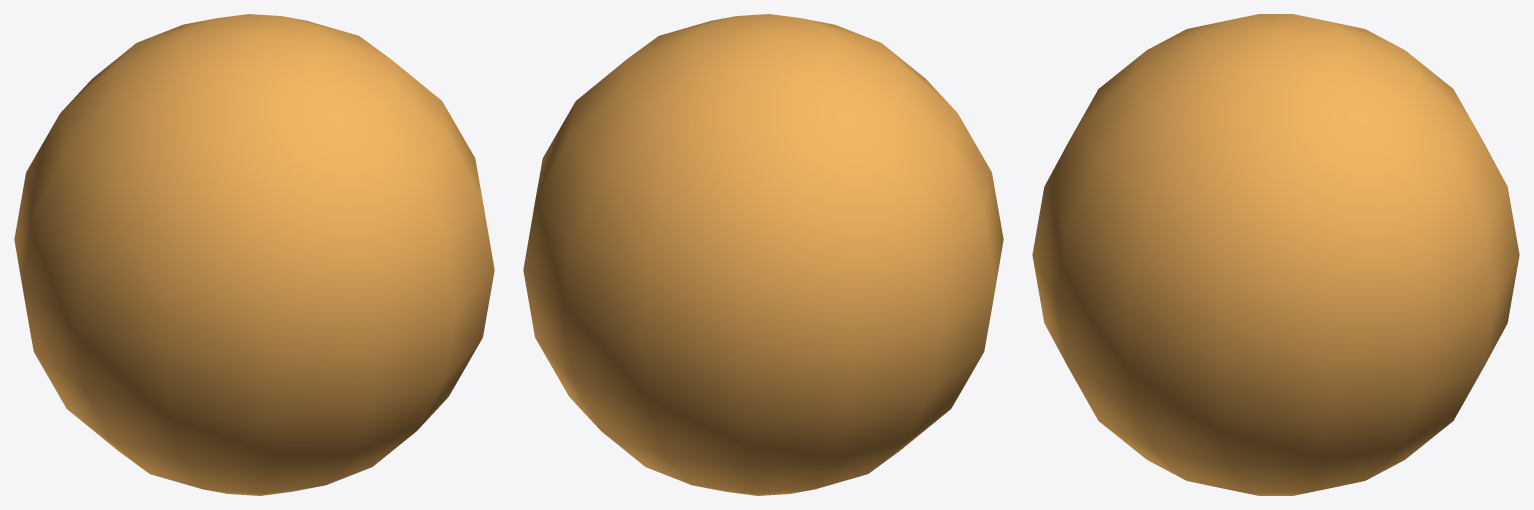
The model's file is ImpactCannon.fbx.
The picture shows the model from 3 angles, left to right: view 1: azimuth 30°, elevation 25°; view 2: azimuth 150°, elevation 25°; view 3: azimuth 270°, elevation 25°; orthographic projection.
Parts seen in each view (by area): view 1: impact_ball; view 2: impact_ball; view 3: impact_ball.
Boxes of the visible parts, x1,y1,x2,y2 form: impact_ball: [14, 14, 494, 495]; impact_ball: [523, 14, 1003, 495]; impact_ball: [1032, 14, 1519, 495].
Bounding box in the file's own units: 0.39 × 0.4 × 0.4.
